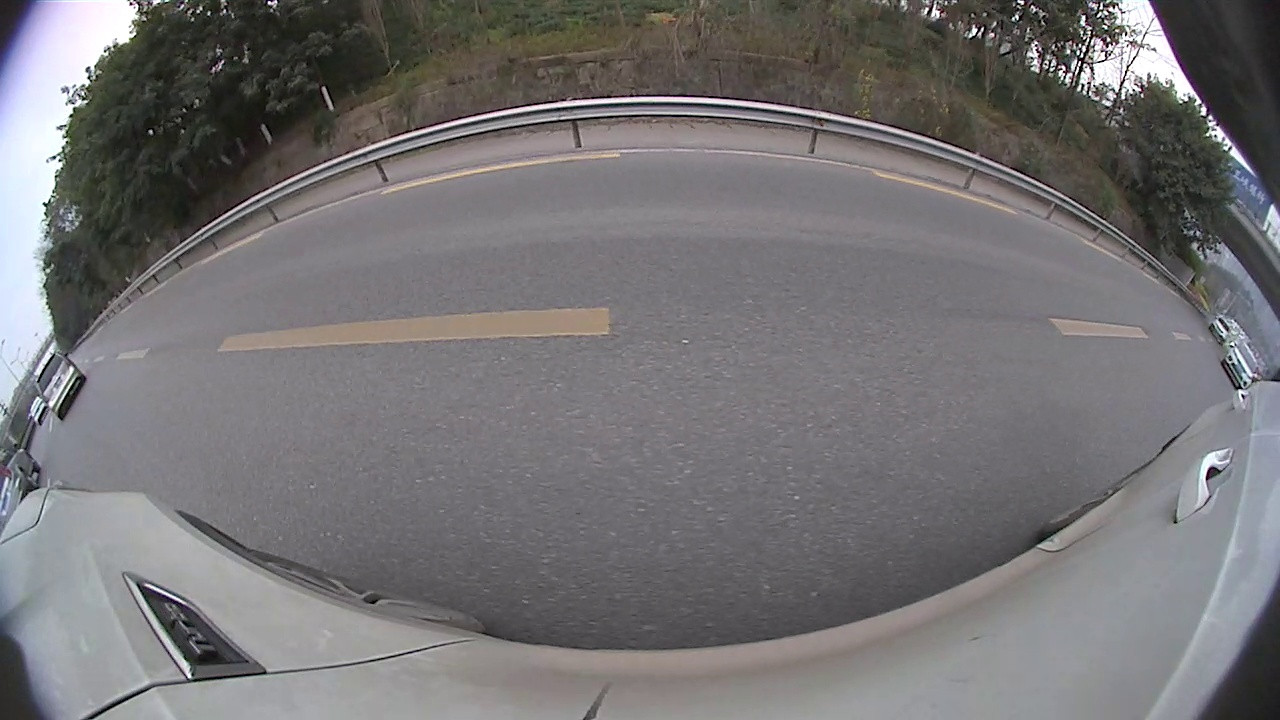bus: (827, 100, 1190, 312), (728, 136, 825, 192)
car: (2, 159, 429, 476), (797, 123, 1033, 266), (610, 132, 723, 217), (522, 144, 589, 201), (722, 160, 746, 187)
front: (387, 220, 428, 269), (795, 184, 819, 217)
rear: (131, 324, 227, 424), (878, 201, 917, 258)
